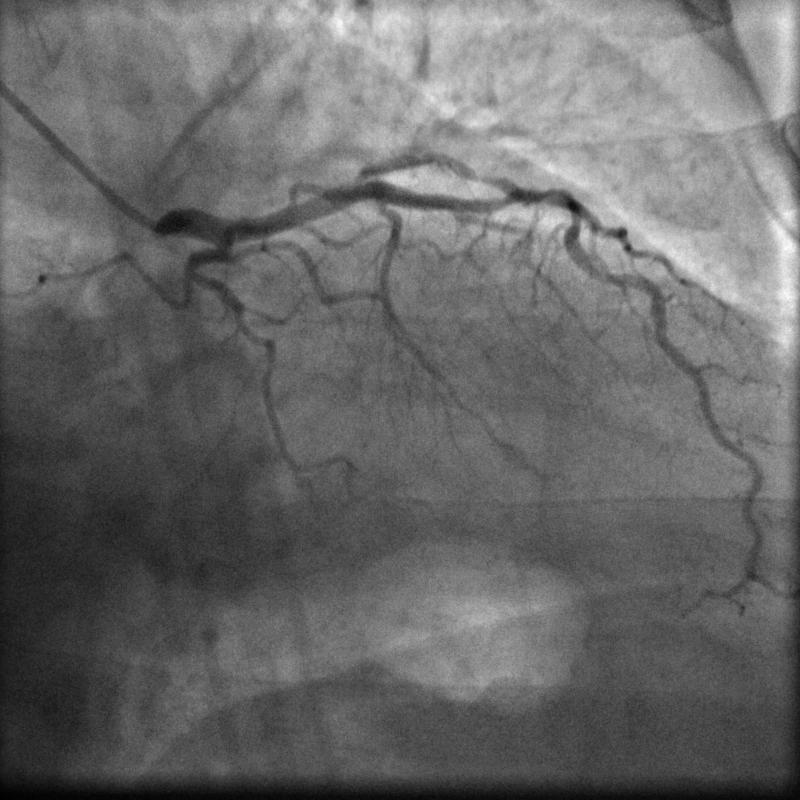Stenosis: (505, 179, 582, 216)
